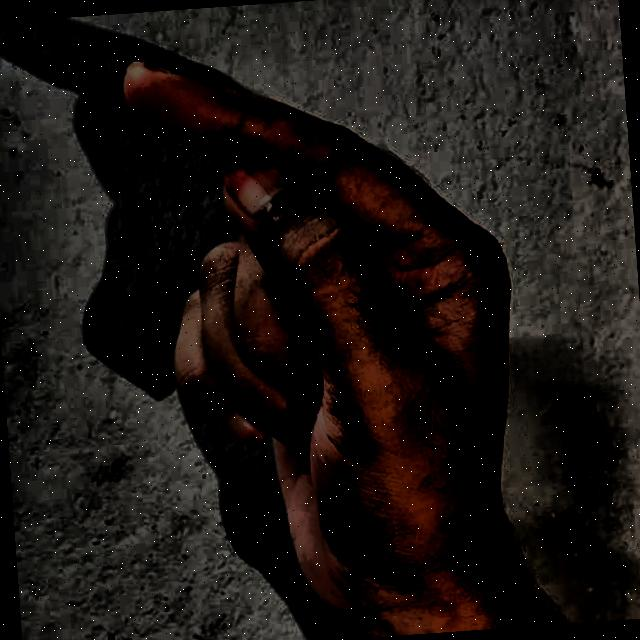Tha: (76, 13, 574, 640)
